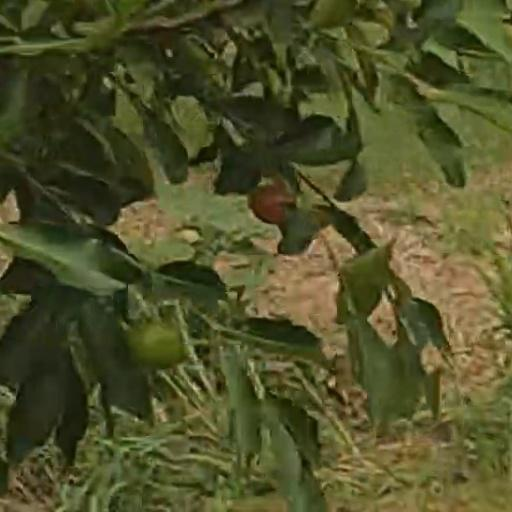acerola: (125, 324, 182, 364), (250, 184, 292, 218)
